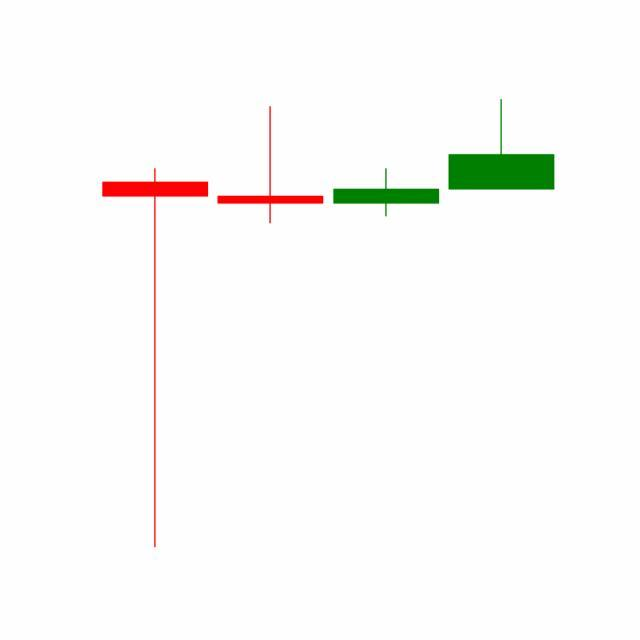Hammer: (329, 167, 445, 218)
